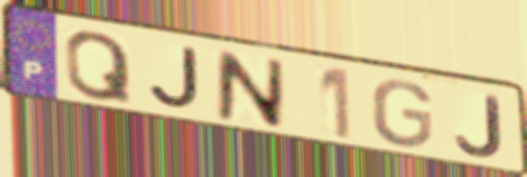1: (313, 64, 353, 142)
G: (370, 78, 435, 150)
J: (145, 44, 204, 114), (452, 92, 505, 160)
N: (213, 48, 287, 132)
Q: (62, 30, 136, 107)
